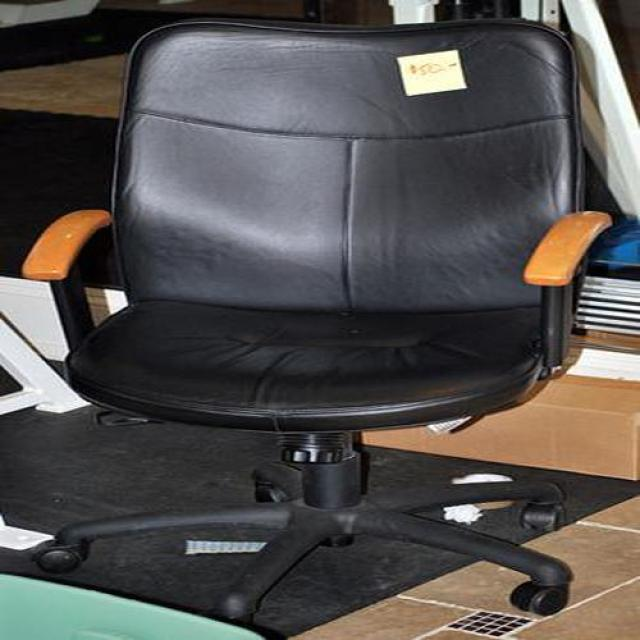swivelchair: (0, 18, 614, 640)
